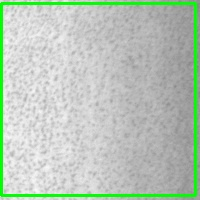pitted_surface: (1, 3, 195, 195)
